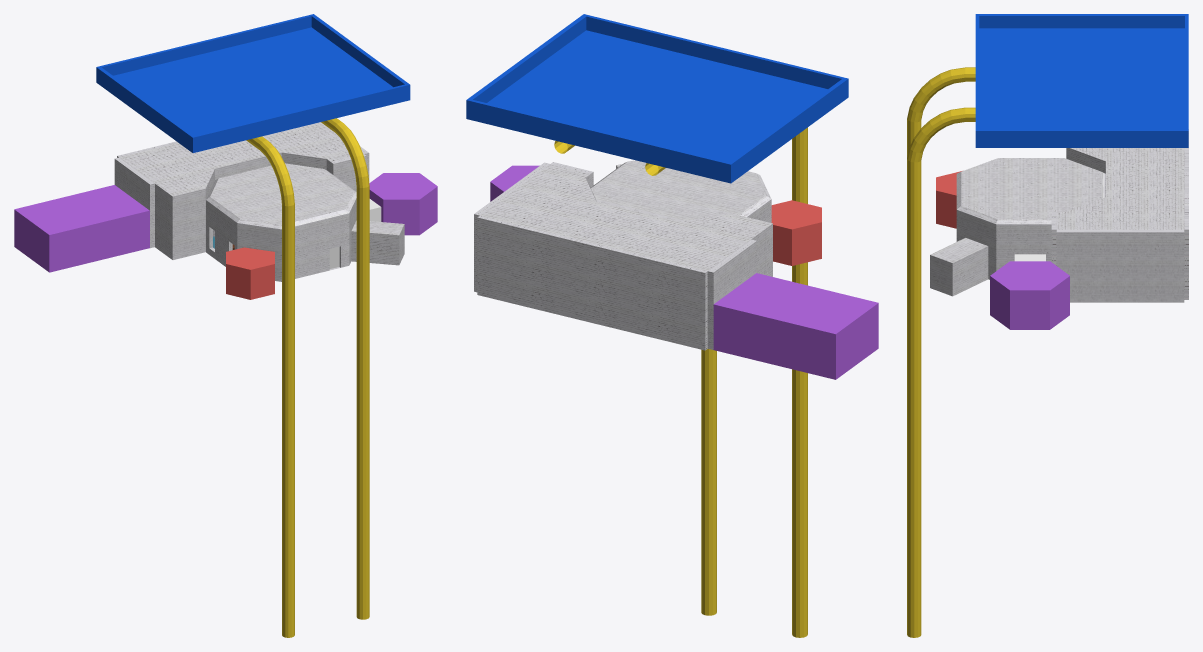
The model's file is Resistor_main_room_objects_16.glb.
3 views of the same model, side by side, from view 1: azimuth 30°, elevation 25°; view 2: azimuth 150°, elevation 25°; view 3: azimuth 270°, elevation 25° (orthographic). The views are drawn at different scales.
Parts seen in each view (by area): view 1: pool_holowed, Walls_Backroom_1, Walls_Main_room, Cube.005, pool-beam-1, pool-beam-2, CONTROL_ROOM, BATHROOM, Laser-Cutting-room; view 2: pool_holowed, Walls_Backroom_1, Cube.005, Walls_Main_room, pool-beam-2, pool-beam-1, BATHROOM, CONTROL_ROOM; view 3: pool_holowed, Walls_Backroom_1, Walls_Main_room, pool-beam-1, CONTROL_ROOM, Laser-Cutting-room, pool-beam-2, BATHROOM.
Boxes of the visible parts, x1,y1,x2,y2 form: pool_holowed: [96, 14, 410, 152]; Walls_Backroom_1: [114, 122, 369, 259]; Walls_Main_room: [206, 163, 356, 281]; Cube.005: [14, 185, 149, 272]; pool-beam-1: [321, 118, 369, 619]; pool-beam-2: [246, 136, 294, 637]; CONTROL_ROOM: [369, 173, 437, 235]; BATHROOM: [226, 247, 274, 299]; Laser-Cutting-room: [351, 220, 404, 265]; pool_holowed: [466, 14, 848, 183]; Walls_Backroom_1: [474, 162, 772, 350]; Cube.005: [713, 273, 878, 379]; Walls_Main_room: [590, 160, 771, 222]; pool-beam-2: [645, 127, 807, 637]; pool-beam-1: [554, 141, 716, 615]; BATHROOM: [771, 200, 821, 265]; CONTROL_ROOM: [490, 165, 539, 201]; pool_holowed: [975, 14, 1188, 147]; Walls_Backroom_1: [1051, 129, 1188, 302]; Walls_Main_room: [956, 158, 1105, 279]; pool-beam-1: [907, 107, 975, 637]; CONTROL_ROOM: [990, 261, 1069, 329]; Laser-Cutting-room: [930, 238, 988, 296]; pool-beam-2: [907, 67, 975, 157]; BATHROOM: [936, 171, 961, 228].
Size of the model in its own units: 37.24 by 50.97 by 23.92.
Materials: 19 (7 with a texture image).
